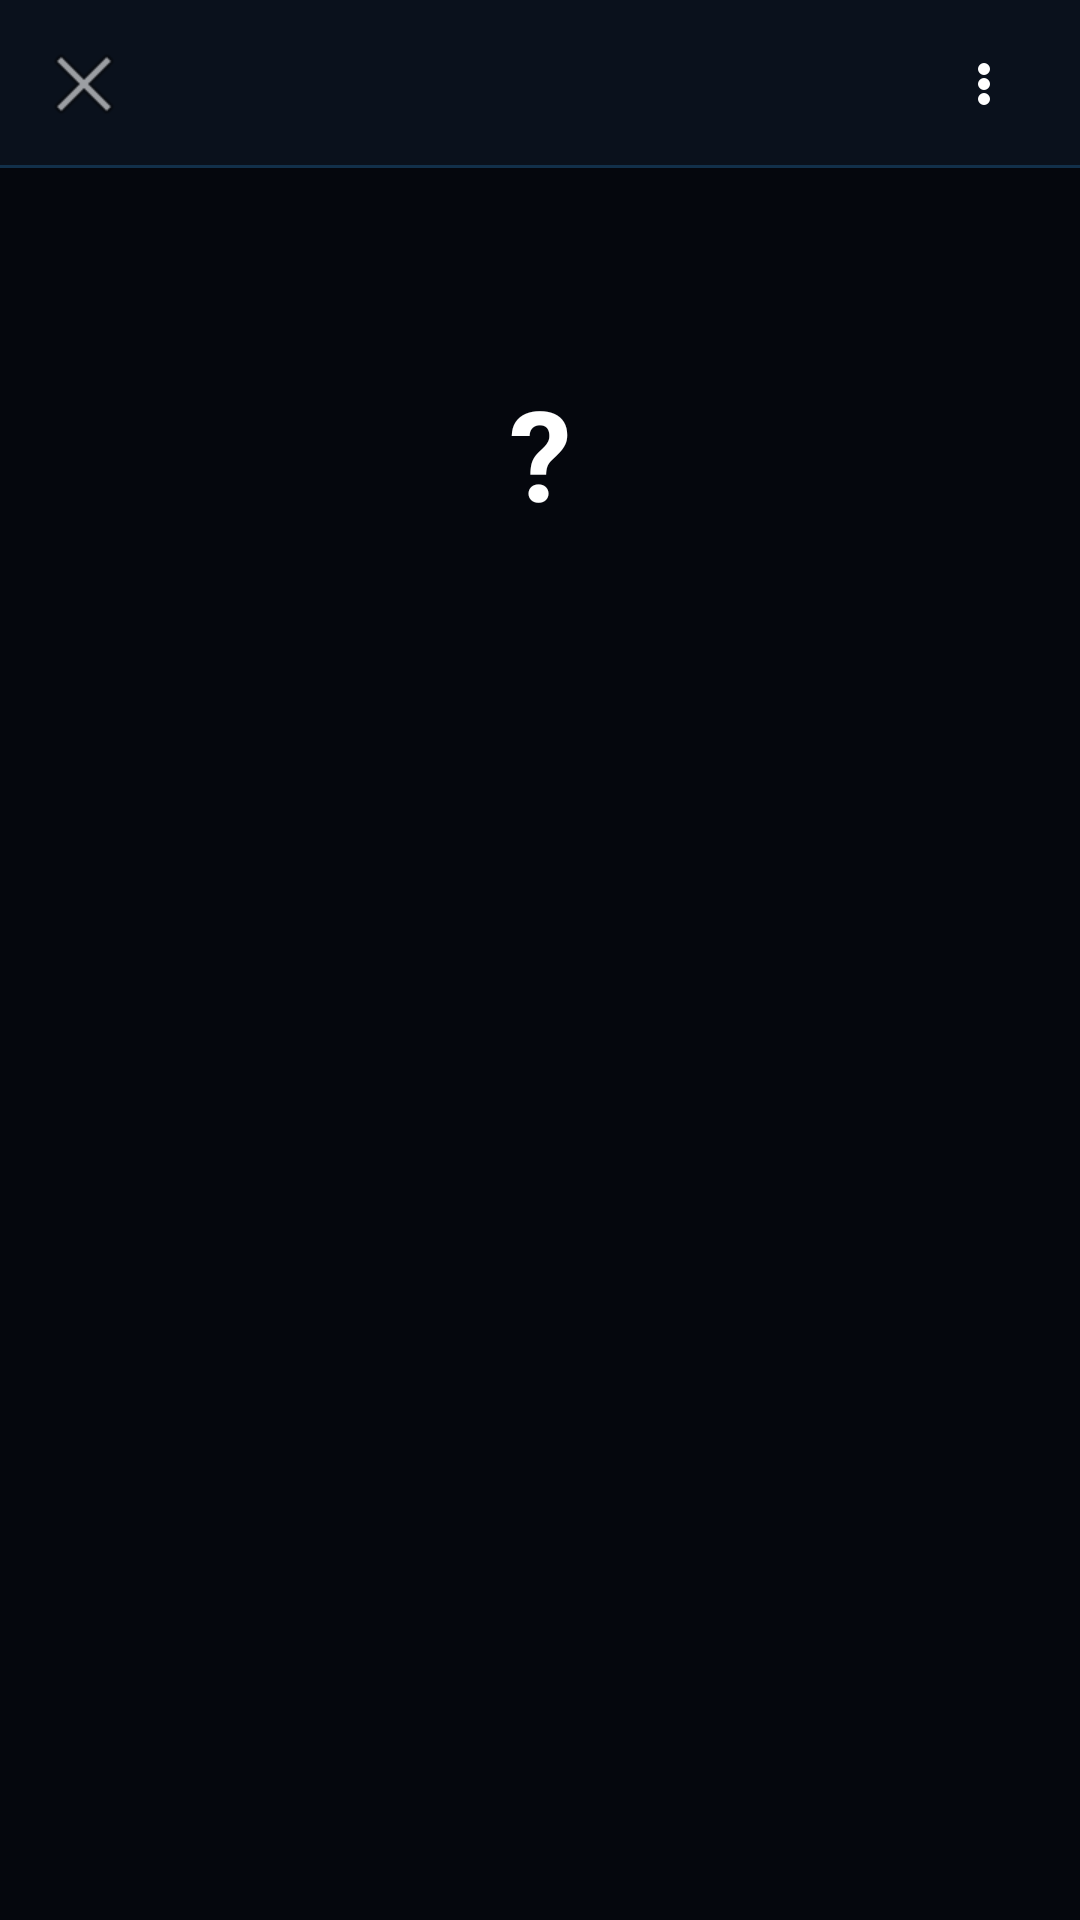

Screen size 1080px×1920px. Icon name, then its center in pixels as [x,y]:
Azioni contatto: [984,84]
